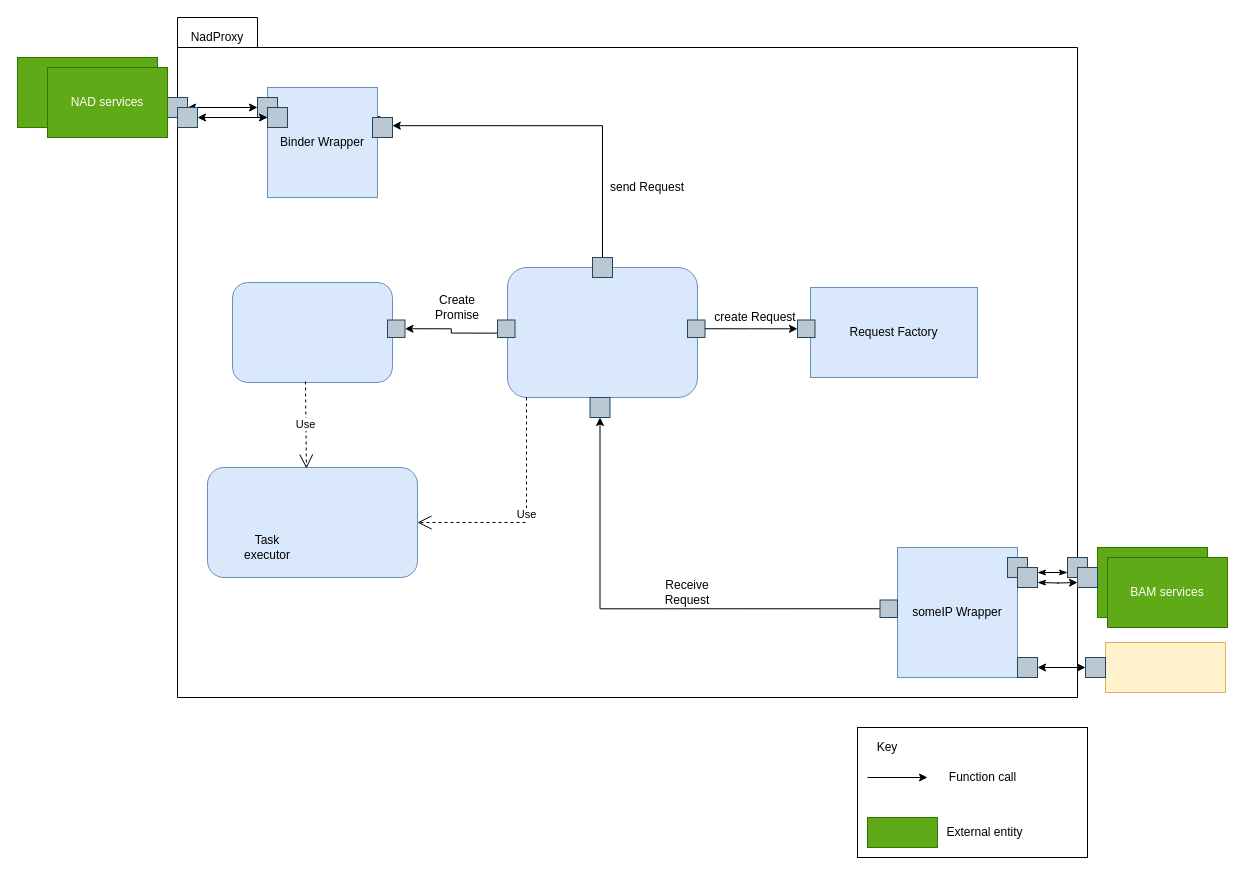
Image size: 1245x875. Some labels were removed from this diagram. Each missing label, with the box of its shape:
Asynchronous Helper: (232, 282, 392, 382)
NAD Manager: (1104, 642, 1226, 692)
request Manager: (506, 266, 698, 398)
